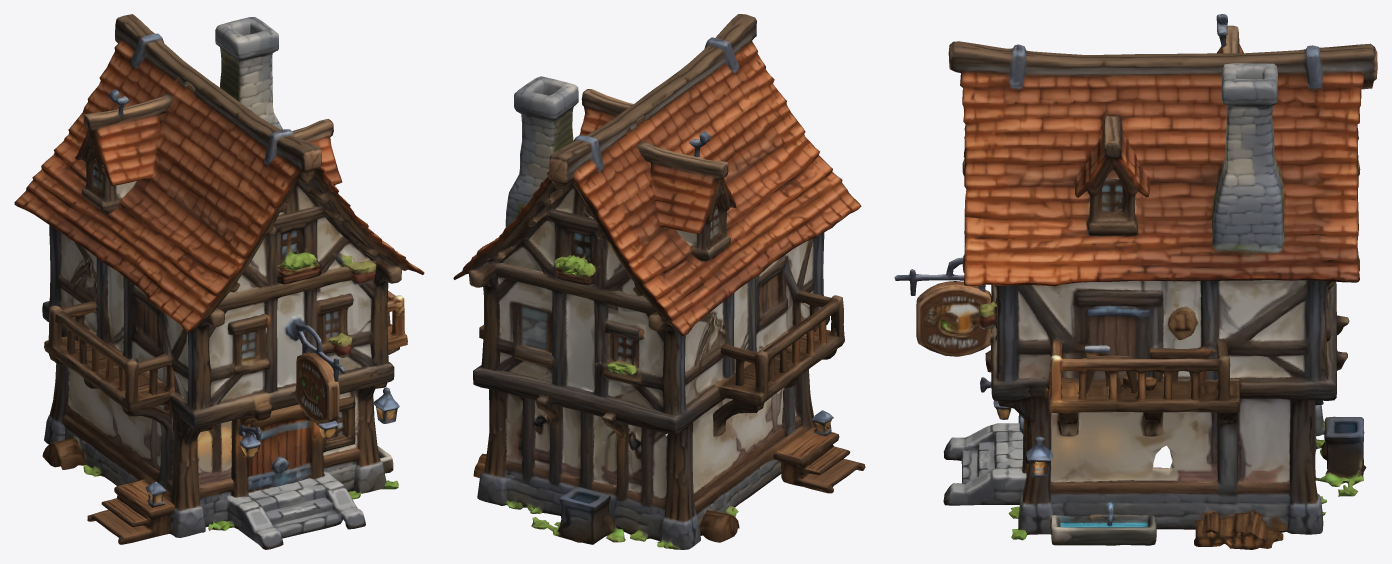
File: Tavern.glb
3 views of the same model, side by side, from view 1: azimuth 30°, elevation 25°; view 2: azimuth 150°, elevation 25°; view 3: azimuth 270°, elevation 25° (orthographic). The views are drawn at different scales.
Parts seen in each view (by area): view 1: world; view 2: world; view 3: world.
Part boxes in pixels (bbox=[...]): world: bbox=[14, 14, 424, 549]; world: bbox=[453, 14, 865, 549]; world: bbox=[894, 14, 1377, 549].
Size of the model in its own units: 0.7049 by 0.9054 by 0.8939.
Materials: 1 (1 with a texture image).
